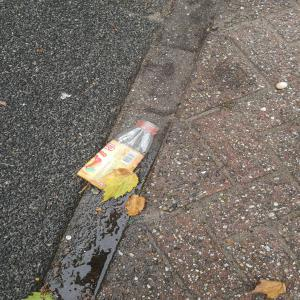Plastic-bottle: (75, 118, 165, 193)
